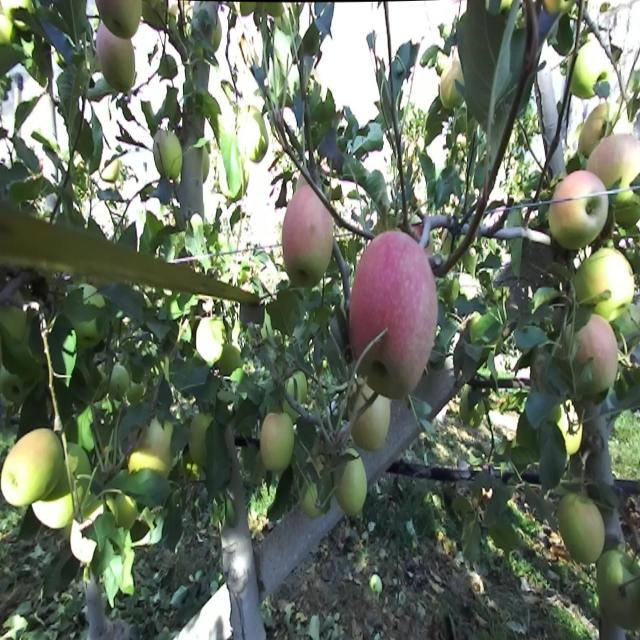apple: (280, 184, 337, 292), (552, 170, 609, 254), (584, 243, 636, 334), (0, 433, 56, 508), (576, 312, 620, 407), (12, 426, 62, 508), (96, 20, 140, 98), (548, 177, 592, 254), (564, 490, 607, 567), (596, 127, 640, 196), (0, 433, 39, 510), (132, 419, 175, 480), (352, 392, 392, 457), (184, 404, 215, 482), (592, 134, 632, 192), (260, 412, 296, 476), (572, 42, 611, 101), (72, 499, 106, 565), (576, 106, 611, 162), (300, 461, 331, 523), (336, 461, 368, 521), (184, 419, 212, 482), (40, 486, 75, 533), (440, 56, 466, 119), (196, 319, 226, 370), (104, 0, 141, 41), (108, 490, 139, 532), (72, 518, 98, 567), (620, 134, 640, 196), (220, 340, 243, 380), (184, 447, 207, 484), (0, 6, 17, 48), (544, 0, 564, 18)
